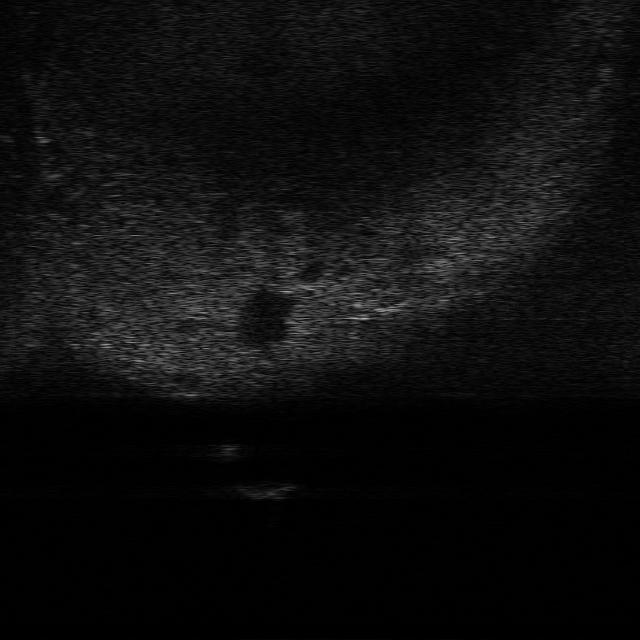cube: (235, 483, 297, 501)
